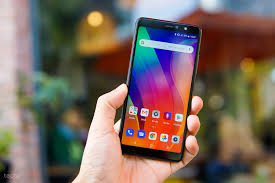vsmart: (115, 17, 201, 162)
